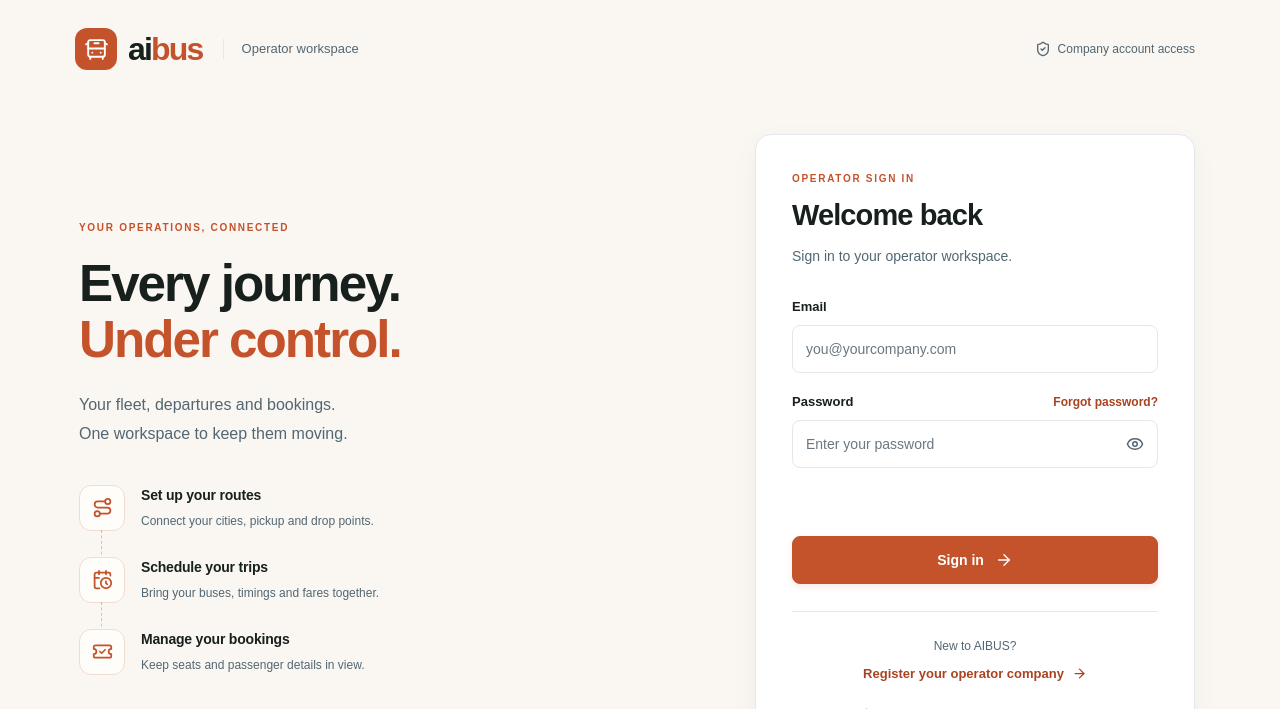
Test case: Operator authentication › associates validation with the field and focuses the first correction
The width and height of the screenshot is (1280, 709).
What coordinates should you click on to do the following:
click the button "Sign in"
I would click on:
 (975, 560)
Its box is [792, 536, 1158, 584].
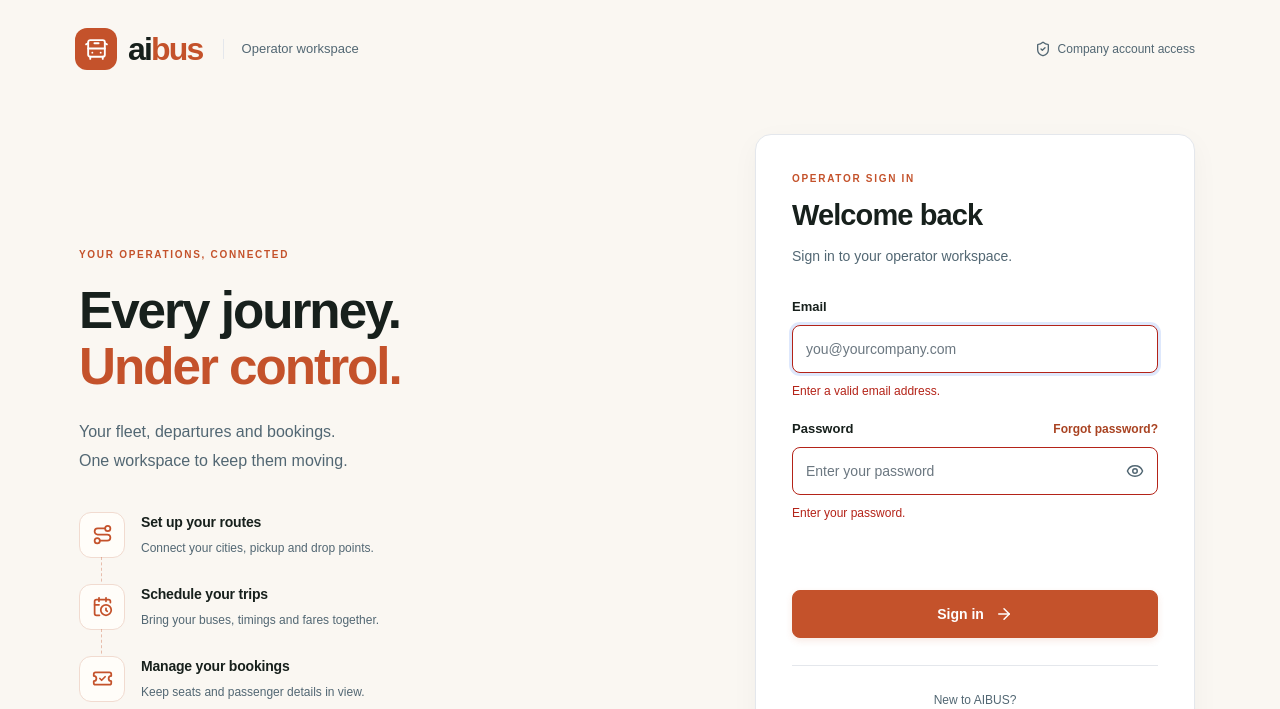
Now the text "Enter a valid email address." is shown, box [792, 384, 940, 398]
